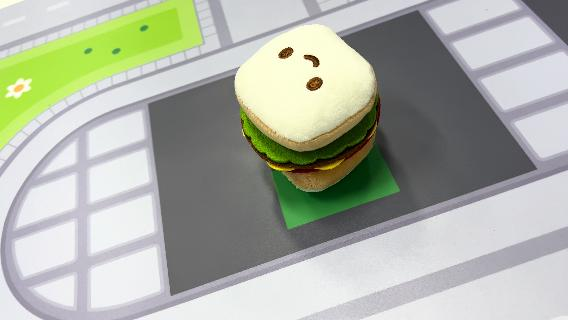sandwich: (232, 22, 384, 194)
